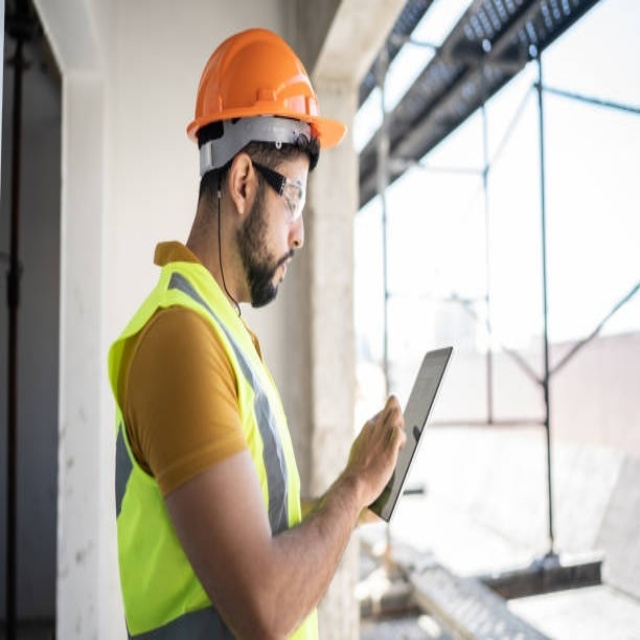Gafas: (248, 155, 308, 224)
Sin_guantes: (341, 389, 406, 499)
Sin_mascara: (261, 246, 295, 292)
